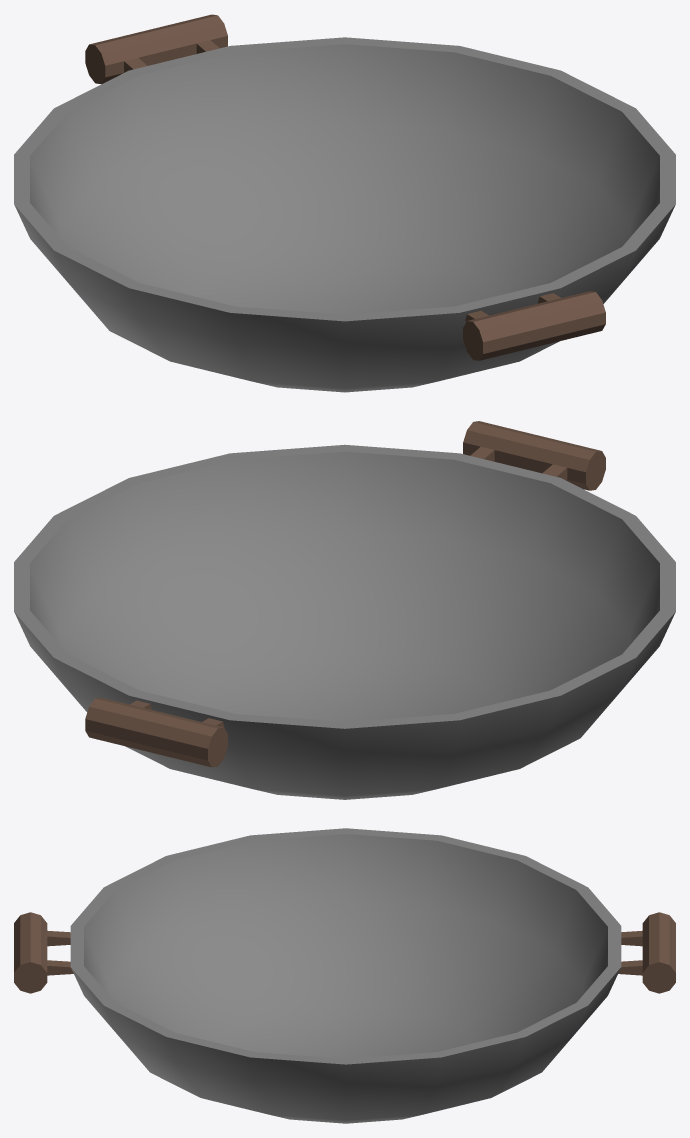
File: Wok.fbx
3 views of the same model, one above another, from view 1: azimuth 30°, elevation 25°; view 2: azimuth 150°, elevation 25°; view 3: azimuth 270°, elevation 25° (orthographic). The views are drawn at different scales.
Visible parts, largest first — view 1: Kitchen_wok:pSphere2; view 2: Kitchen_wok:pSphere2; view 3: Kitchen_wok:pSphere2.
Boxes of the visible parts, left/top/right/bottom form: Kitchen_wok:pSphere2: left=14, top=14, right=675, bottom=392; Kitchen_wok:pSphere2: left=14, top=421, right=675, bottom=799; Kitchen_wok:pSphere2: left=14, top=828, right=675, bottom=1123.
Bounding box in the file's own units: 28.09 × 7.54 × 33.25.
